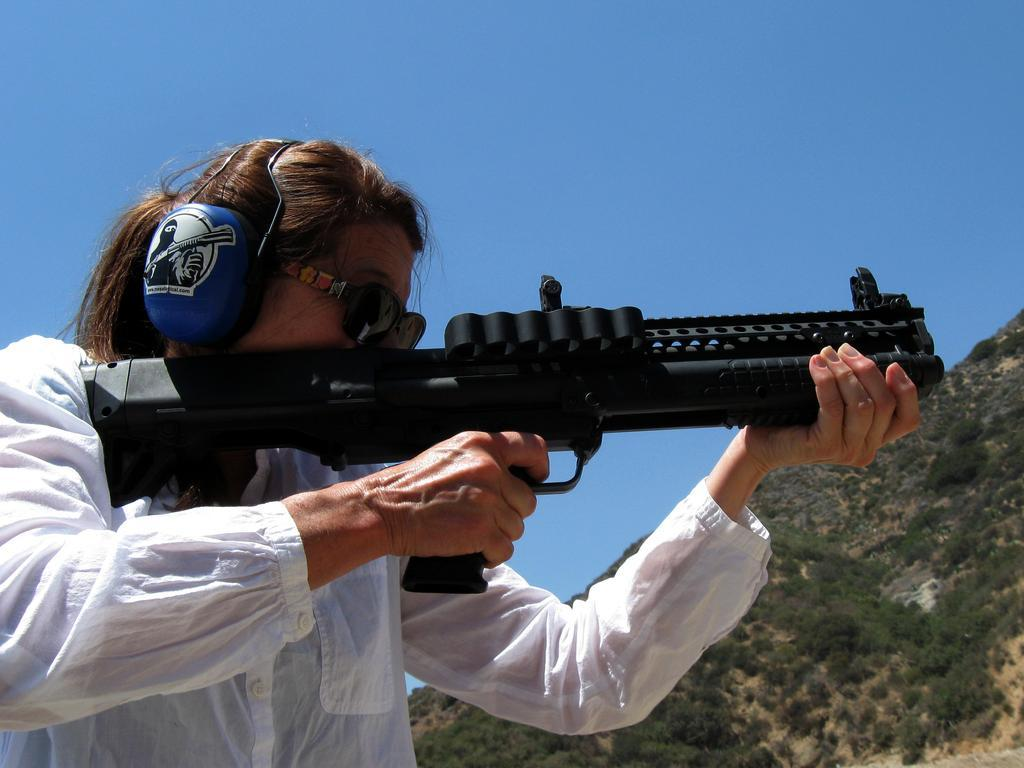gun: (84, 297, 948, 497)
